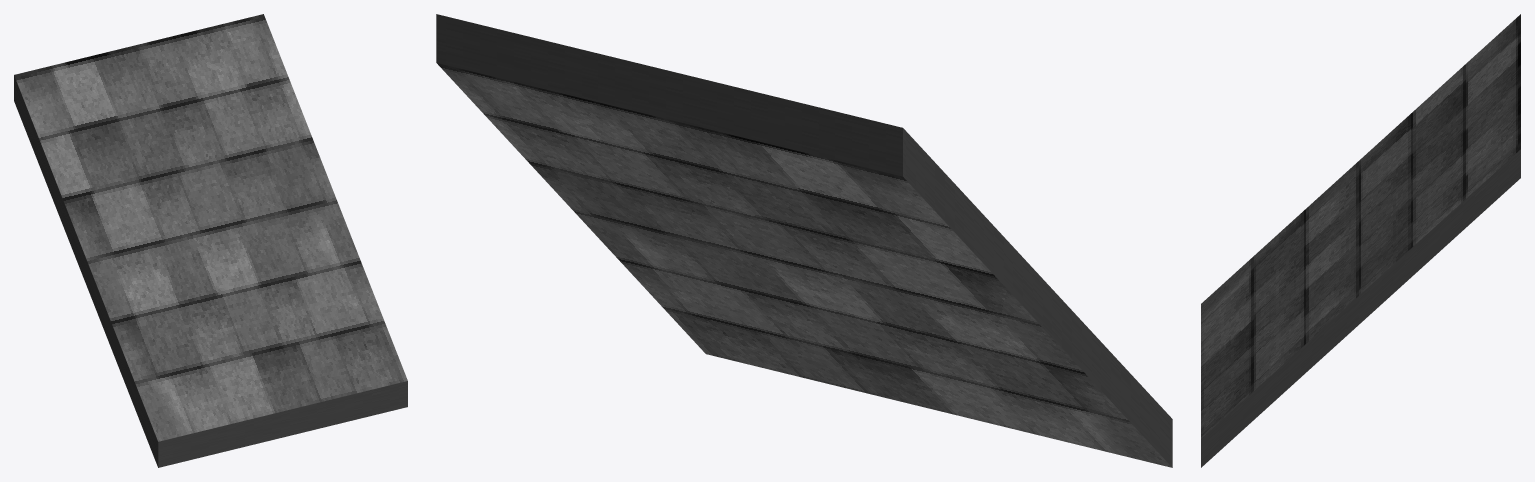
File: Roof_Center.glb
3 renders of one model, left to right at view 1: azimuth 30°, elevation 25°; view 2: azimuth 150°, elevation 25°; view 3: azimuth 270°, elevation 25°, orthographic. The views are drawn at different scales.
Visible parts, largest first — view 1: Roof_Center.001; view 2: Roof_Center.001; view 3: Roof_Center.001.
Boxes of the visible parts, x1,y1,x2,y2 form: Roof_Center.001: (14, 14, 407, 467); Roof_Center.001: (436, 14, 1172, 467); Roof_Center.001: (1201, 14, 1520, 467).
Bounding box in the file's own units: 2 × 2.2 × 2.
Materials: 1 (1 with a texture image).
